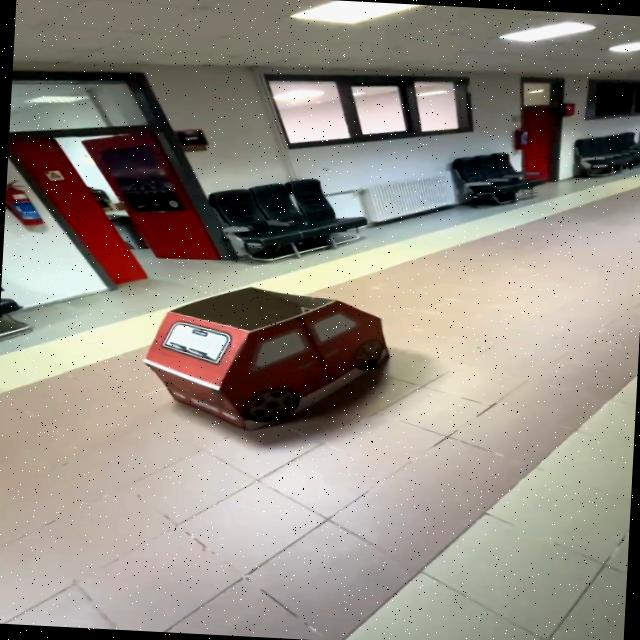red_car: (119, 265, 423, 448)
